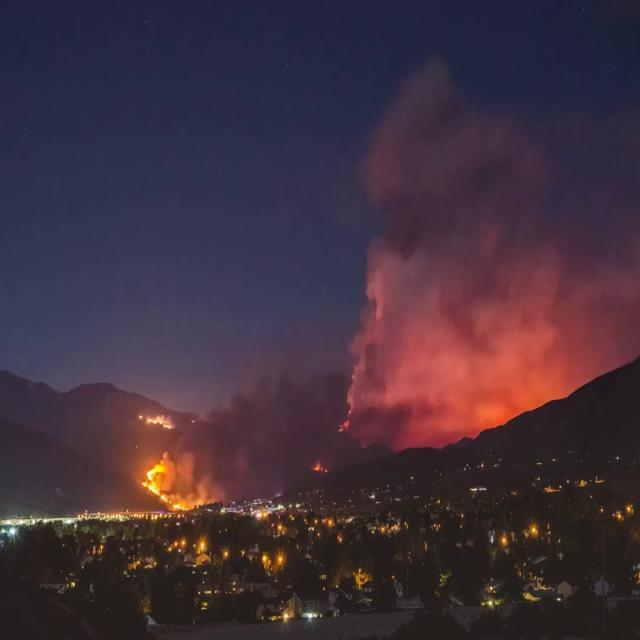Fire: (142, 462, 188, 510), (137, 410, 175, 430), (312, 460, 328, 473), (337, 418, 348, 433)
Smoke: (346, 52, 638, 452), (154, 351, 414, 506)
